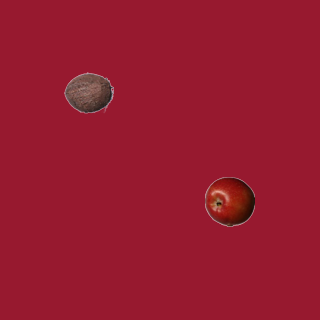Apple Braeburn: (204, 176, 254, 226)
Cocos: (63, 67, 113, 117)
